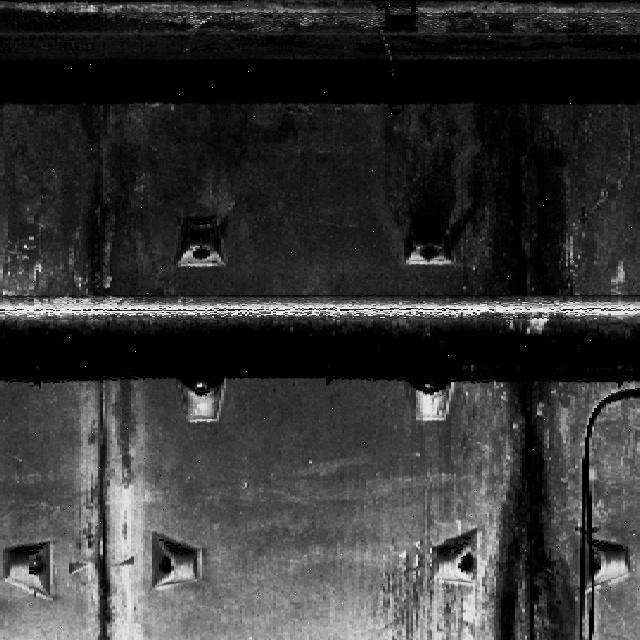leakage: (474, 379, 583, 639), (463, 107, 576, 298), (81, 382, 141, 639)
